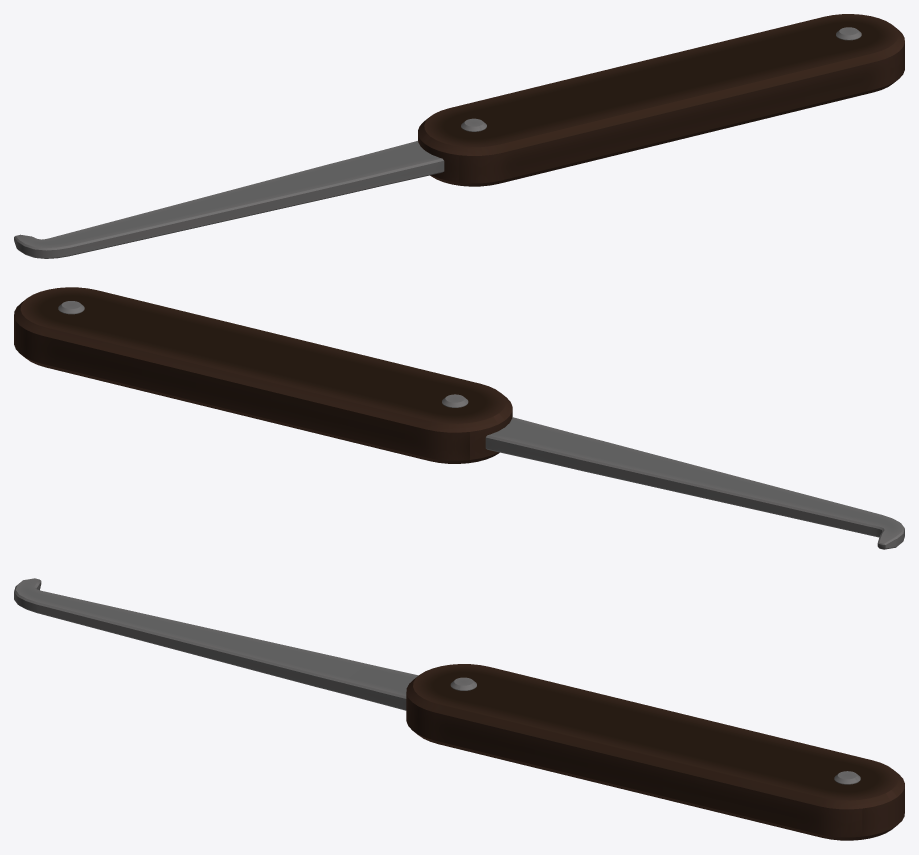
File: Lockpick_new_texturized.glb
The picture shows the model from 3 angles, top to bottom: view 1: azimuth 30°, elevation 25°; view 2: azimuth 150°, elevation 25°; view 3: azimuth 330°, elevation 25°; orthographic projection. The views are drawn at different scales.
Parts seen in each view (by area): view 1: Cylinder.001, Cube, Cylinder; view 2: Cylinder.001, Cube, Cylinder; view 3: Cylinder.001, Cube, Cylinder.
Part boxes in pixels (box(x1,y1,x2,y2)): Cylinder.001: box(418, 14, 904, 186); Cube: box(14, 141, 444, 258); Cylinder: box(461, 27, 861, 131); Cylinder.001: box(14, 287, 512, 463); Cube: box(485, 417, 904, 549); Cylinder: box(58, 301, 468, 407); Cylinder.001: box(406, 664, 904, 840); Cube: box(14, 578, 418, 710); Cylinder: box(450, 677, 860, 784).
Size of the model in its own units: 2.32 by 0.119 by 0.26.
Materials: 2 (2 with a texture image).
